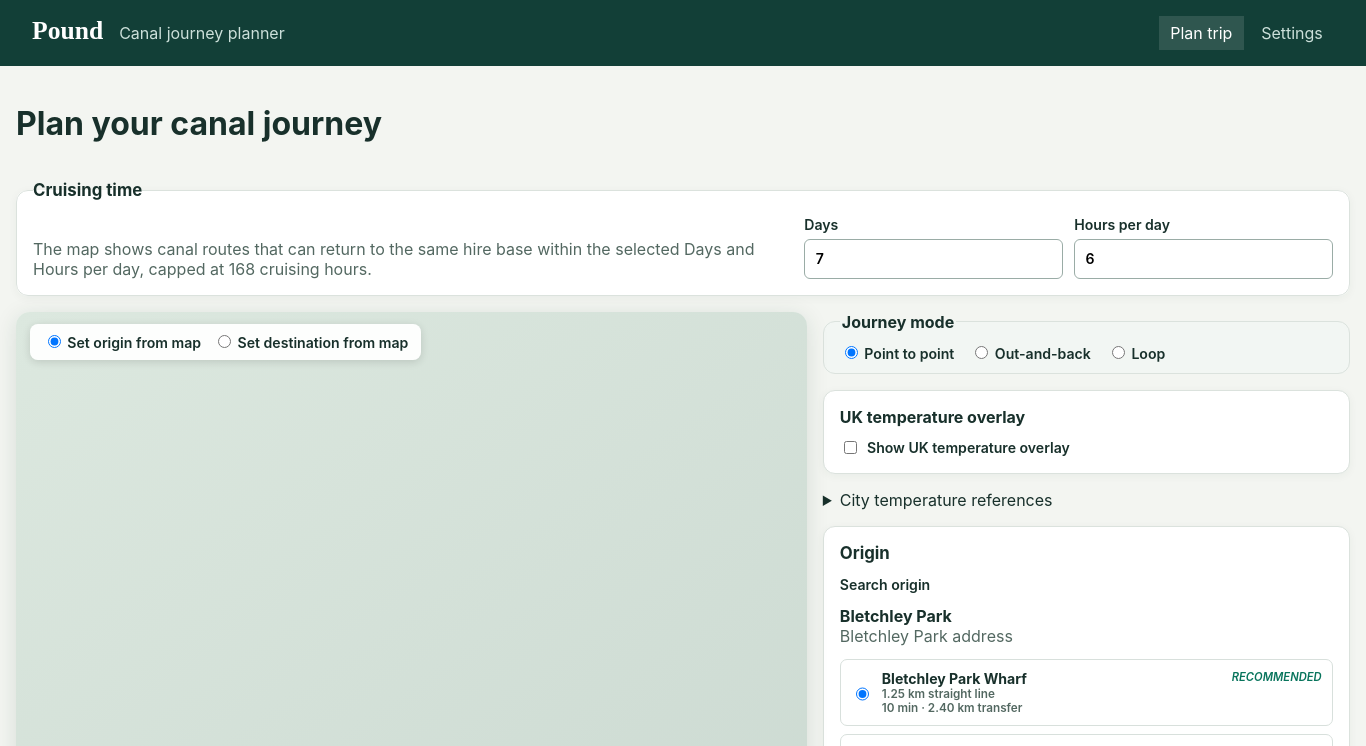
trip planning interface › settings page at narrow viewport has no planner controls in active DOM
The width and height of the screenshot is (1366, 746).
Click the link "Settings": (1292, 33) [1261,23,1323,43]
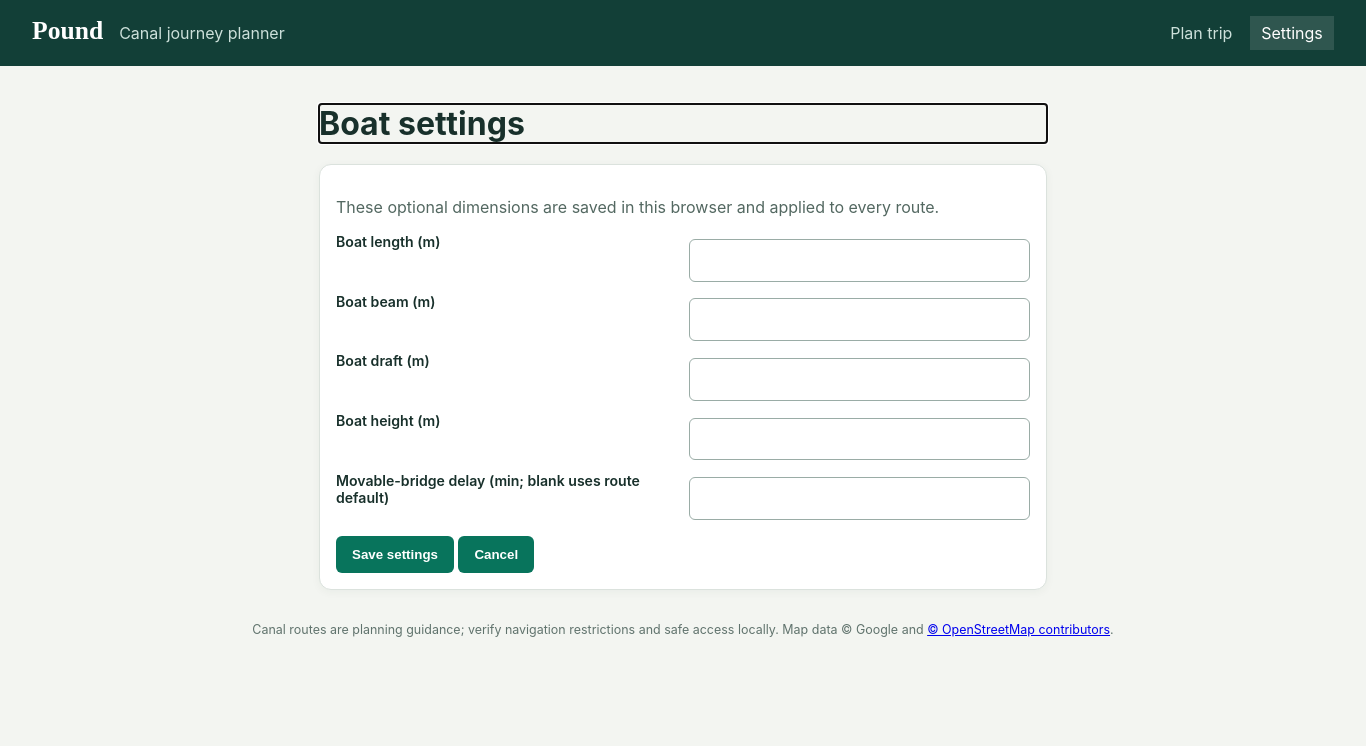
Result: the label labelled "Days" is gone
Result: the text labelled "hours per day" is gone
